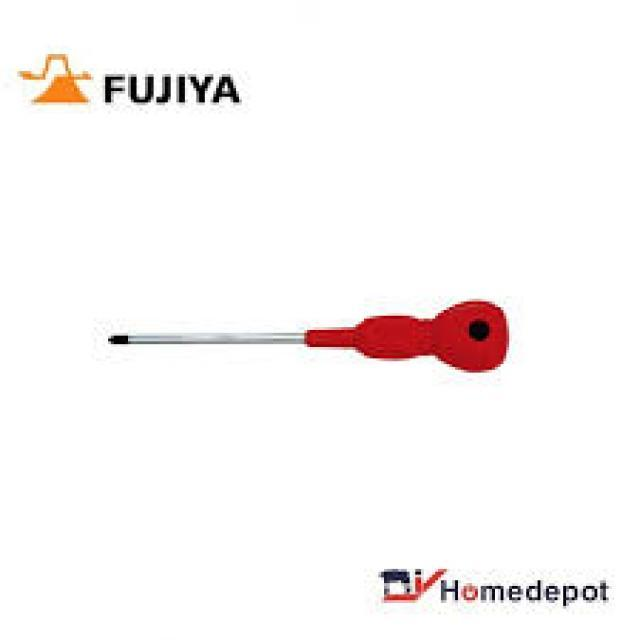screwdriver: (105, 298, 509, 376)
